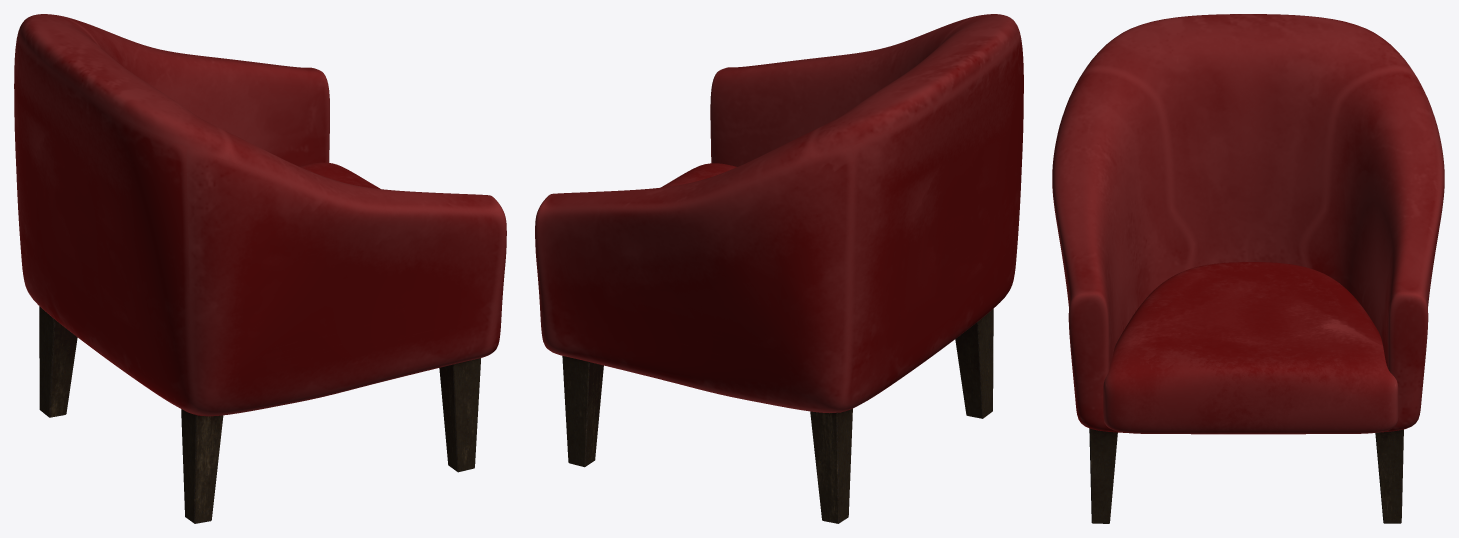
File: Couch.fbx
3 renders of one model, left to right at view 1: azimuth 30°, elevation 25°; view 2: azimuth 150°, elevation 25°; view 3: azimuth 270°, elevation 25°, orthographic. The views are drawn at different scales.
Visible parts, largest first — view 1: Base, Legs, Pillow; view 2: Base, Legs, Pillow; view 3: Base, Pillow, Legs.
Boxes of the visible parts, box(x1,y1,x2,y2) form: Base: box(14, 14, 506, 416); Legs: box(39, 306, 480, 523); Pillow: box(299, 162, 380, 188); Base: box(535, 14, 1023, 413); Legs: box(562, 309, 993, 523); Pillow: box(661, 163, 736, 187); Base: box(1052, 14, 1444, 434); Pillow: box(1103, 262, 1398, 433); Legs: box(1089, 428, 1403, 523).
Size of the model in its own units: 311 by 346 by 329.
3 materials, 3 textured.
